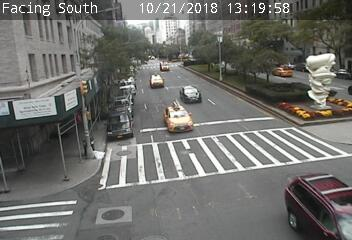car: (164, 105, 195, 132), (181, 84, 202, 104), (151, 75, 164, 87), (159, 61, 170, 71)
